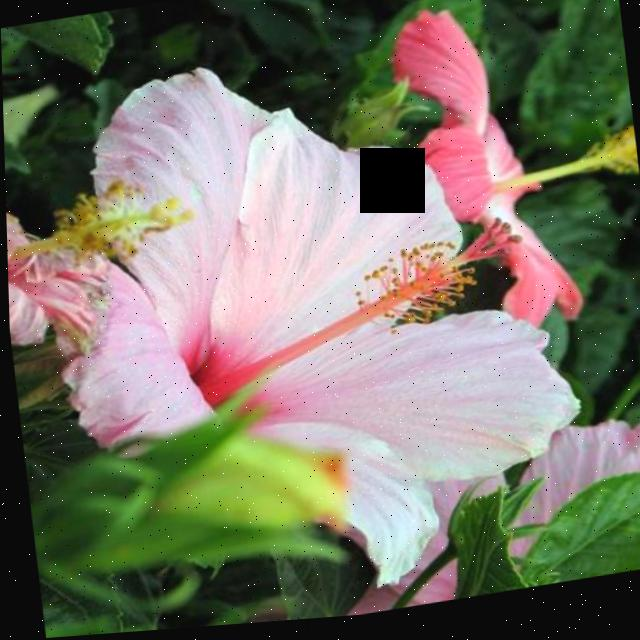hibiscus: (1, 0, 595, 640), (356, 0, 640, 388)
